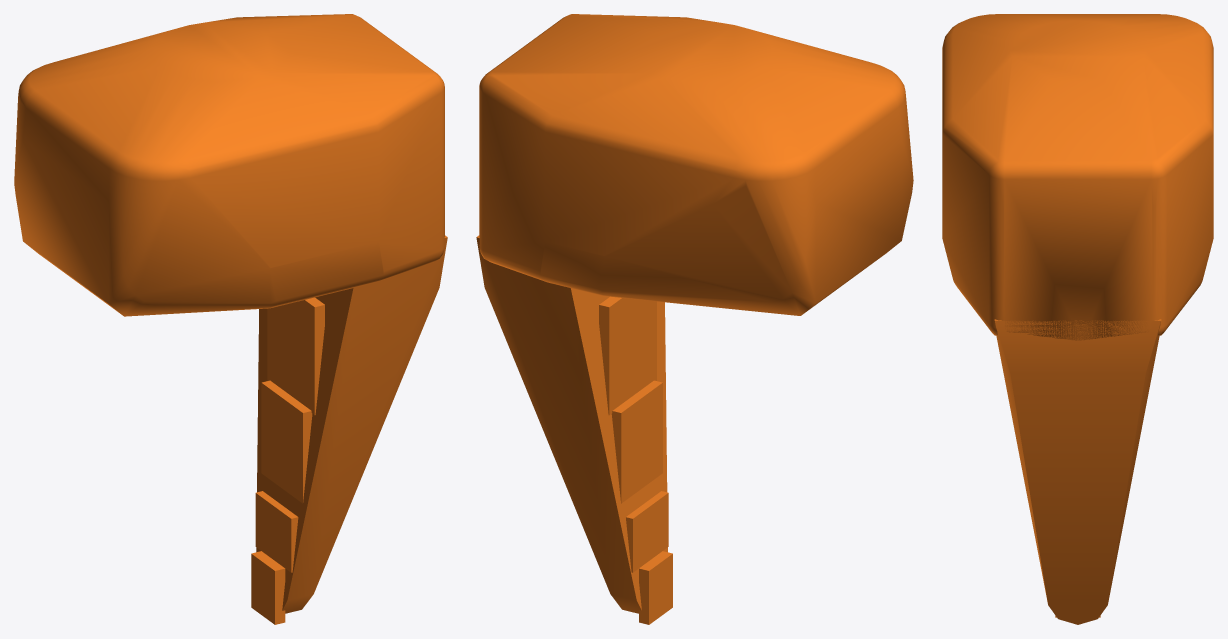
3 renders of one model, left to right at view 1: azimuth 30°, elevation 25°; view 2: azimuth 150°, elevation 25°; view 3: azimuth 270°, elevation 25°, orthographic. The views are drawn at different scales.
Parts seen in each view (by area): view 1: gripper_frame; view 2: gripper_frame; view 3: gripper_frame.
Boxes of the visible parts, left/top/right/bottom form: gripper_frame: left=14, top=14, right=447, bottom=624; gripper_frame: left=476, top=14, right=913, bottom=624; gripper_frame: left=942, top=14, right=1213, bottom=624.
Bounding box in the file's own units: 0.0656 × 0.1064 × 0.048.
